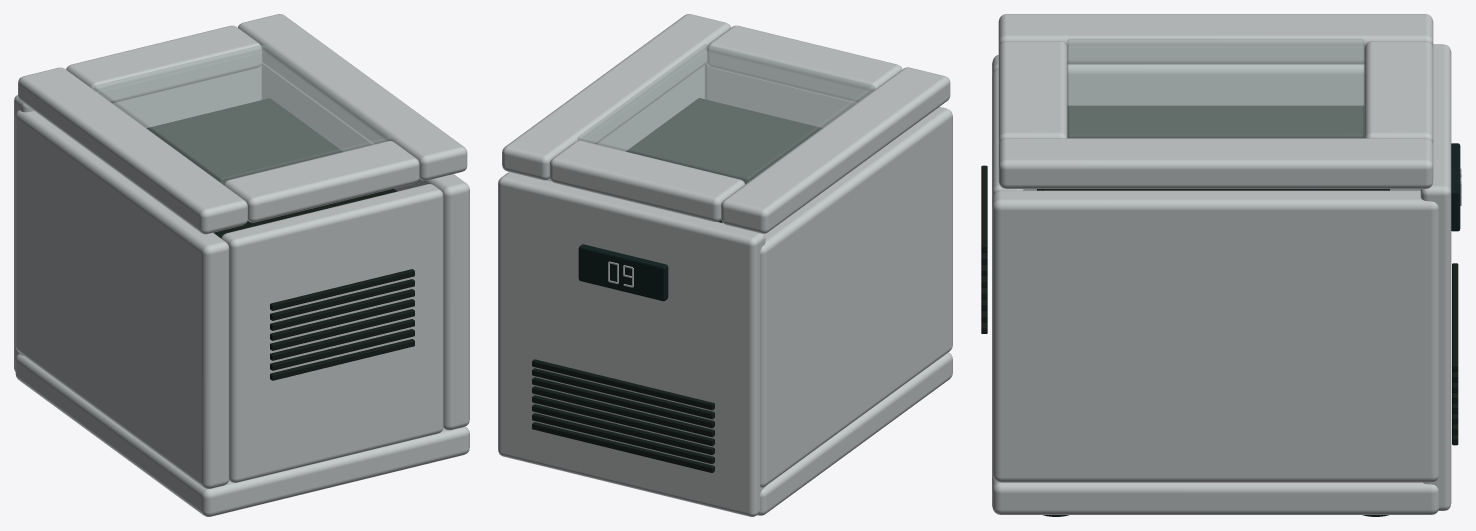
File: kitchen-ice-maker.glb
3 views of the same model, side by side, from view 1: azimuth 30°, elevation 25°; view 2: azimuth 150°, elevation 25°; view 3: azimuth 270°, elevation 25° (orthographic). The views are drawn at different scales.
Parts seen in each view (by area): view 1: steel_surfaces, glass_surfaces, dark_surfaces; view 2: steel_surfaces, dark_surfaces, glass_surfaces; view 3: steel_surfaces, glass_surfaces, dark_surfaces.
Boxes of the visible parts, <box> form: steel_surfaces: <box>14,14,469,516</box>; glass_surfaces: <box>93,44,391,184</box>; dark_surfaces: <box>146,98,414,380</box>; steel_surfaces: <box>498,14,952,516</box>; dark_surfaces: <box>532,98,821,472</box>; glass_surfaces: <box>577,44,874,183</box>; steel_surfaces: <box>992,14,1451,514</box>; glass_surfaces: <box>1067,38,1364,138</box>; dark_surfaces: <box>981,105,1461,516</box>.
Bounding box in the file's own units: 0.28 × 0.321 × 0.3756.
4 materials, 3 textured.
